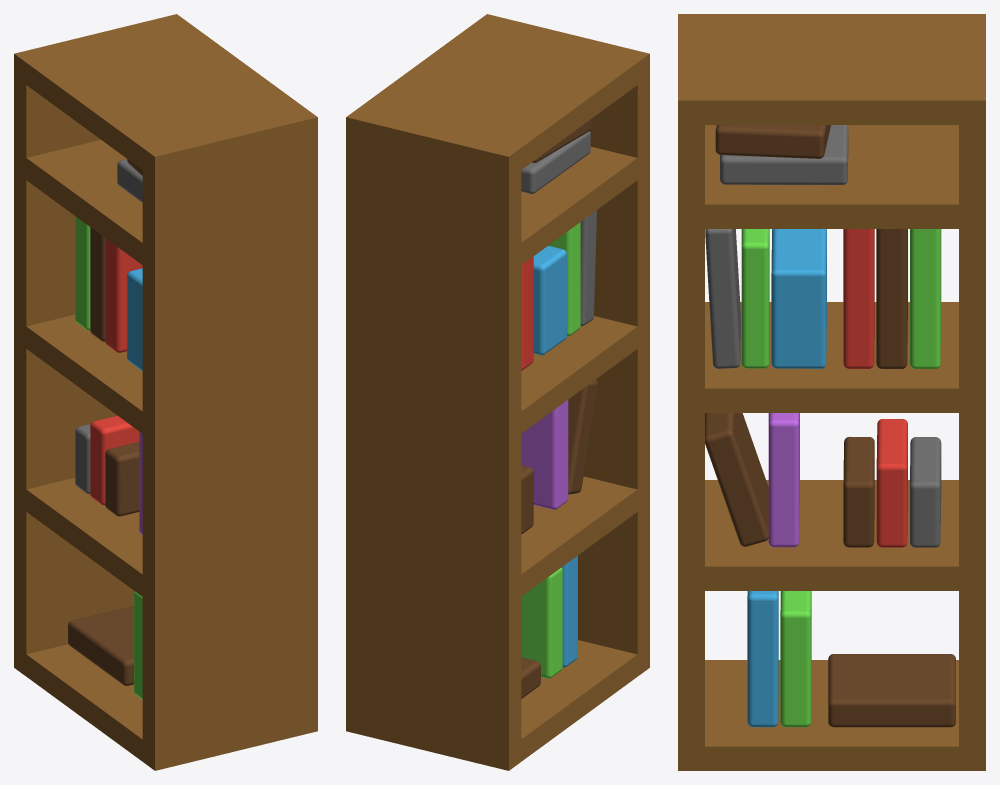
File: bookshelf1.glb
The picture shows the model from 3 angles, left to right: view 1: azimuth 30°, elevation 25°; view 2: azimuth 150°, elevation 25°; view 3: azimuth 270°, elevation 25°; orthographic projection. The views are drawn at different scales.
Visible parts, largest first — view 1: Merged Geometry, books; view 2: Merged Geometry, books; view 3: Merged Geometry, books.
Boxes of the visible parts, <box> form: Merged Geometry: <box>14,14,317,770</box>; books: <box>68,159,142,699</box>; Merged Geometry: <box>346,14,649,770</box>; books: <box>521,118,597,698</box>; Merged Geometry: <box>678,14,985,770</box>; books: <box>705,125,955,727</box>.
Bounding box in the file's own units: 0.4457 × 1.61 × 0.6687.
